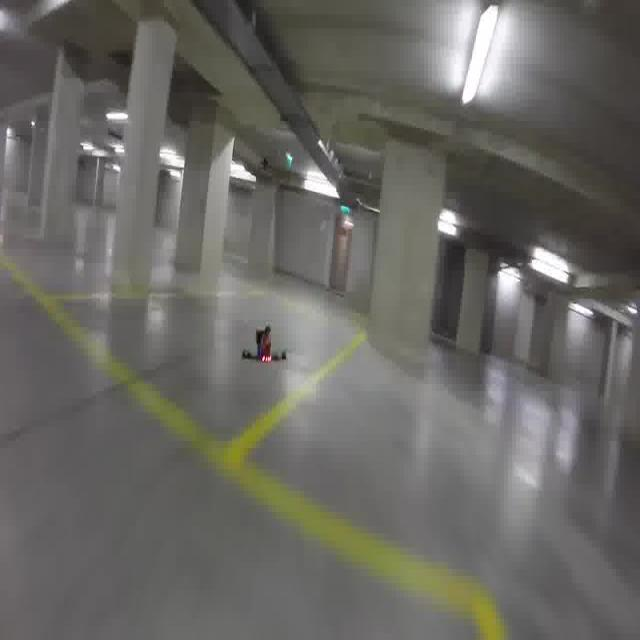drone: (242, 320, 288, 370)
